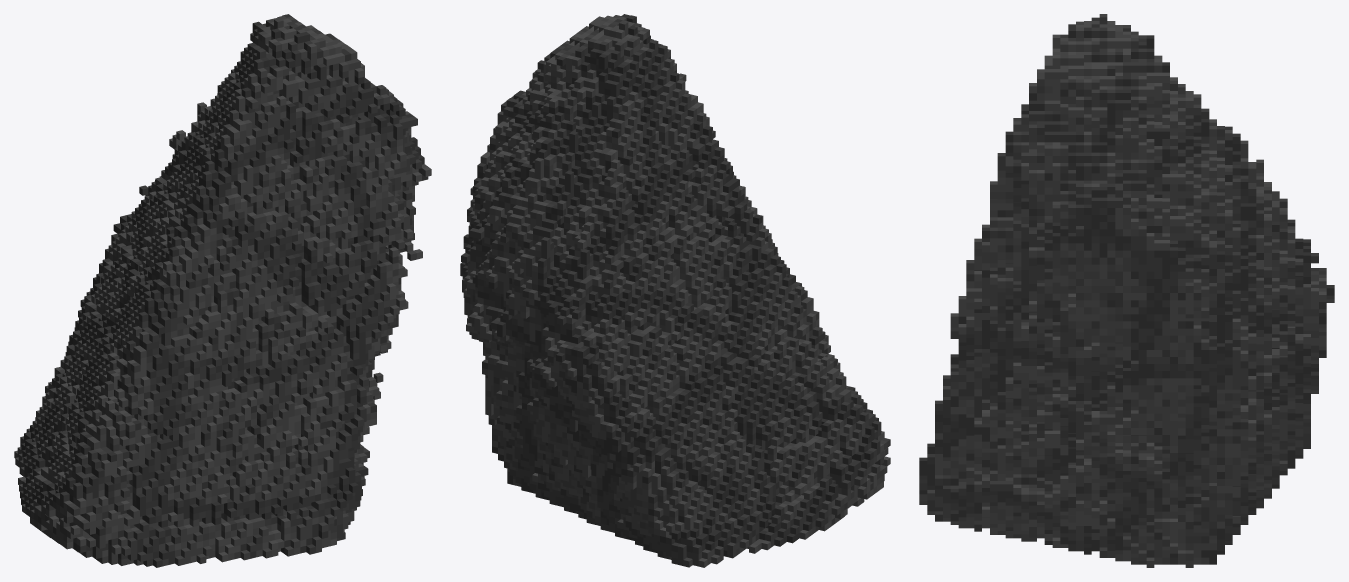
The model's file is Rocas-3.obj.
The picture shows the model from 3 angles, left to right: view 1: azimuth 30°, elevation 25°; view 2: azimuth 150°, elevation 25°; view 3: azimuth 270°, elevation 25°; orthographic projection. The views are drawn at different scales.
Bounding box in the file's own units: 6 × 7.2 × 5.3.
1 material, 1 textured.
